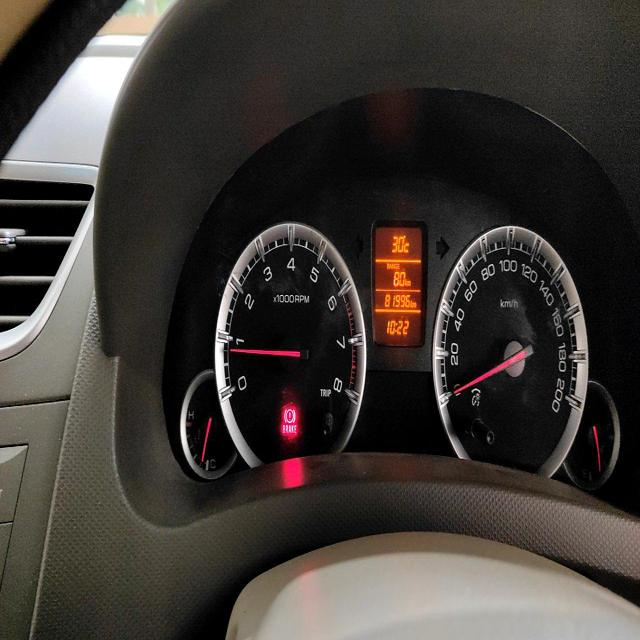odometer: (381, 290, 411, 312)
